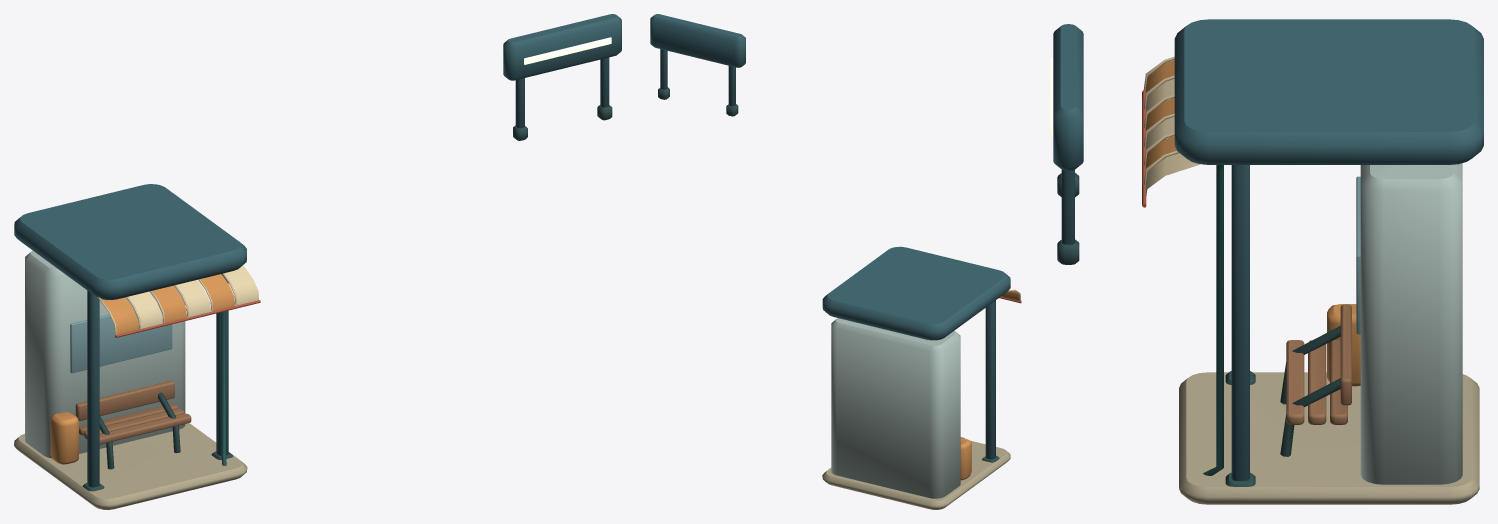
The model's file is harbor_transport_4.glb.
3 views of the same model, side by side, from view 1: azimuth 30°, elevation 25°; view 2: azimuth 150°, elevation 25°; view 3: azimuth 270°, elevation 25° (orthographic). The views are drawn at different scales.
Visible parts, largest first — view 1: HarborTransport4; view 2: HarborTransport4; view 3: HarborTransport4.
Boxes of the visible parts, x1,y1,x2,y2 form: HarborTransport4: (14, 14, 621, 509); HarborTransport4: (650, 14, 1021, 509); HarborTransport4: (1050, 19, 1483, 504).
Size of the model in its own units: 7.47 by 5.98 by 3.58.
